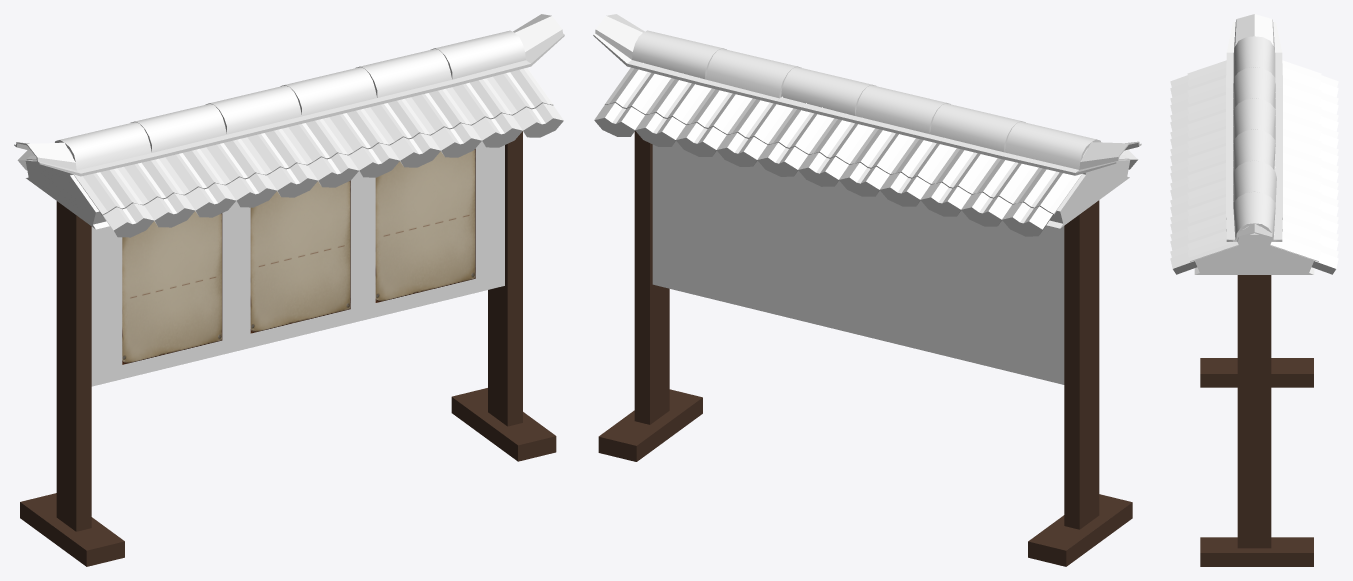
Rendered from Shop banner.fbx.
3 views of the same model, side by side, from view 1: azimuth 30°, elevation 25°; view 2: azimuth 150°, elevation 25°; view 3: azimuth 270°, elevation 25° (orthographic). The views are drawn at different scales.
Visible parts, largest first — view 1: Circle, Plane.007, Plane.006, Plane.005; view 2: Circle; view 3: Circle.
Part boxes in pixels (x1,y1,x2,y2): Circle: (14,14,564,566); Plane.007: (375,148,475,302); Plane.006: (250,180,350,333); Plane.005: (122,211,222,364); Circle: (593,14,1141,566); Circle: (1170,14,1338,566).
Bounding box in the file's own units: 5.46 × 4.04 × 1.78.
